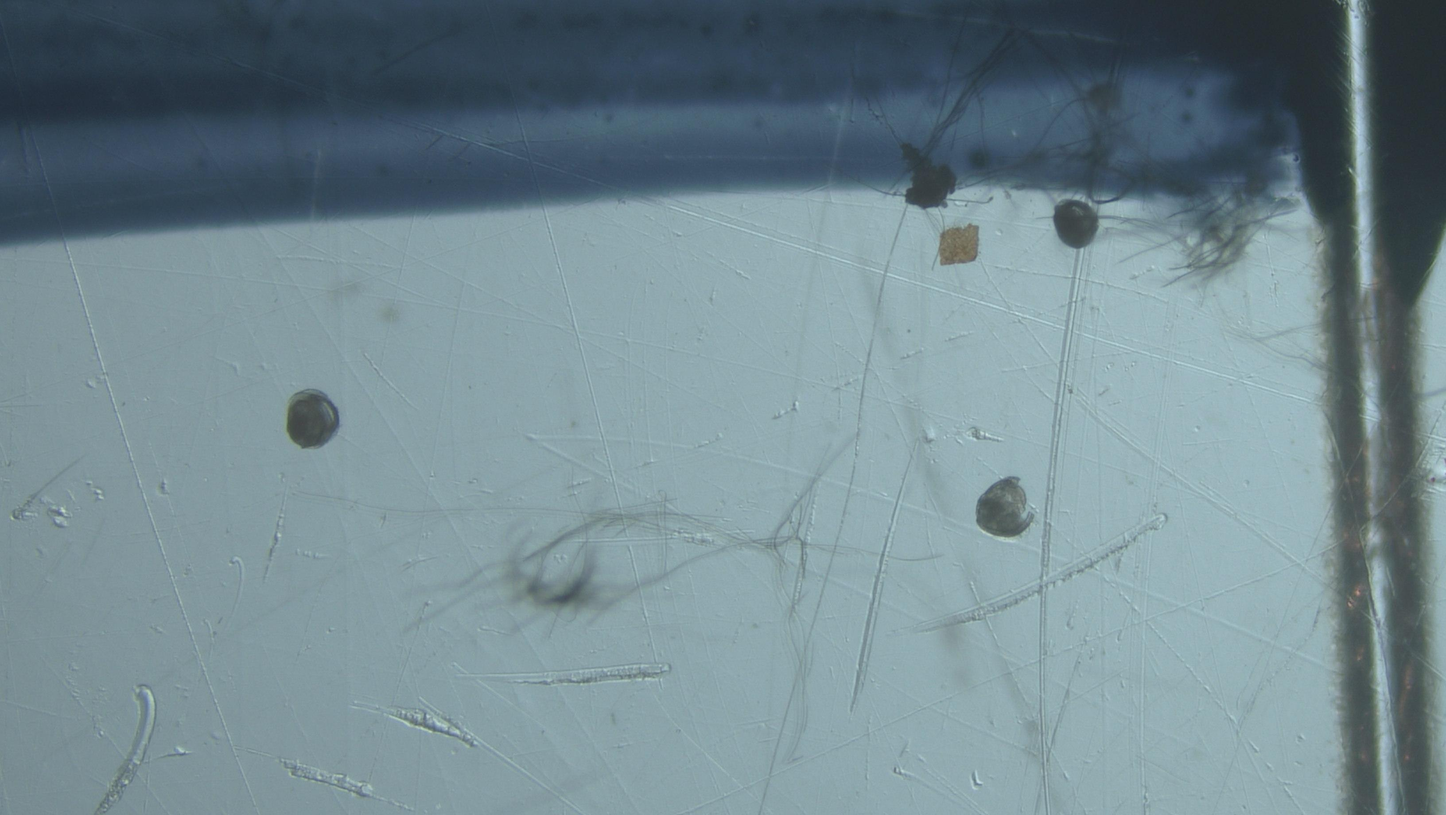live: (976, 477, 1036, 538), (286, 389, 340, 450), (1054, 199, 1099, 249)
